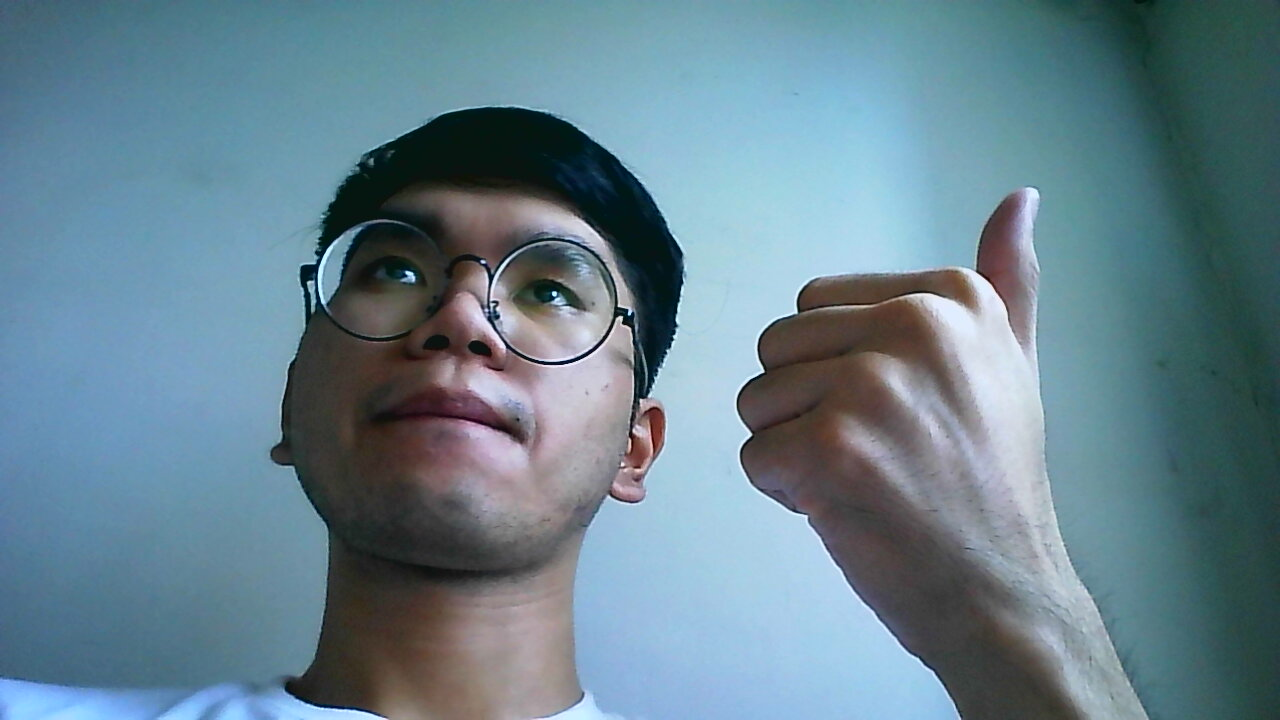thumbs: (735, 184, 1067, 622)
